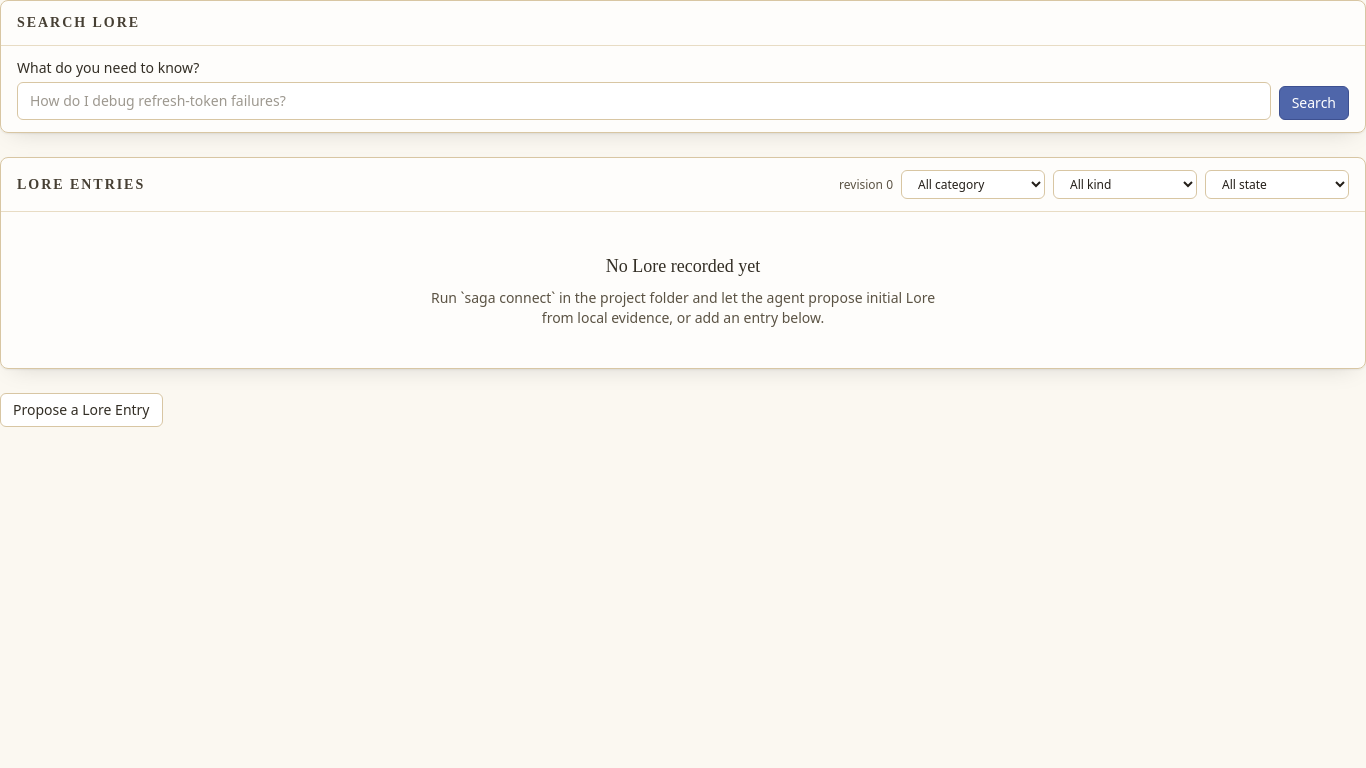
Test: Lore page › warns that a proposal must not contain credentials
This screenshot has width=1366, height=768.
Expected: the text "No Lore recorded yet" is shown, [606,256,760,276]
Click the button "Propose a Lore Entry". click: (81, 410)
box: [0,393,162,427]
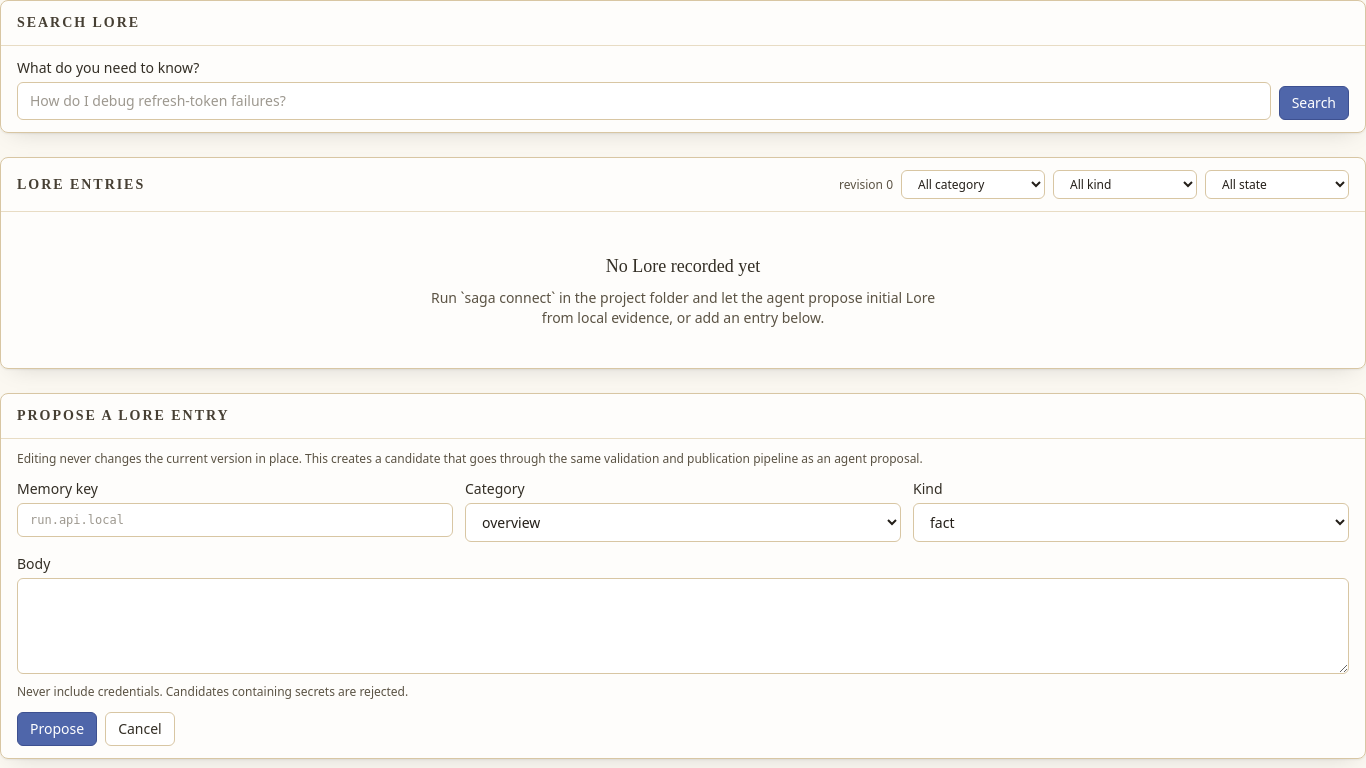
Now the text "Never include credentials" is shown, box [17,683,408,700]
Now the text "never changes the current version in place" is shown, box [17,450,923,467]
